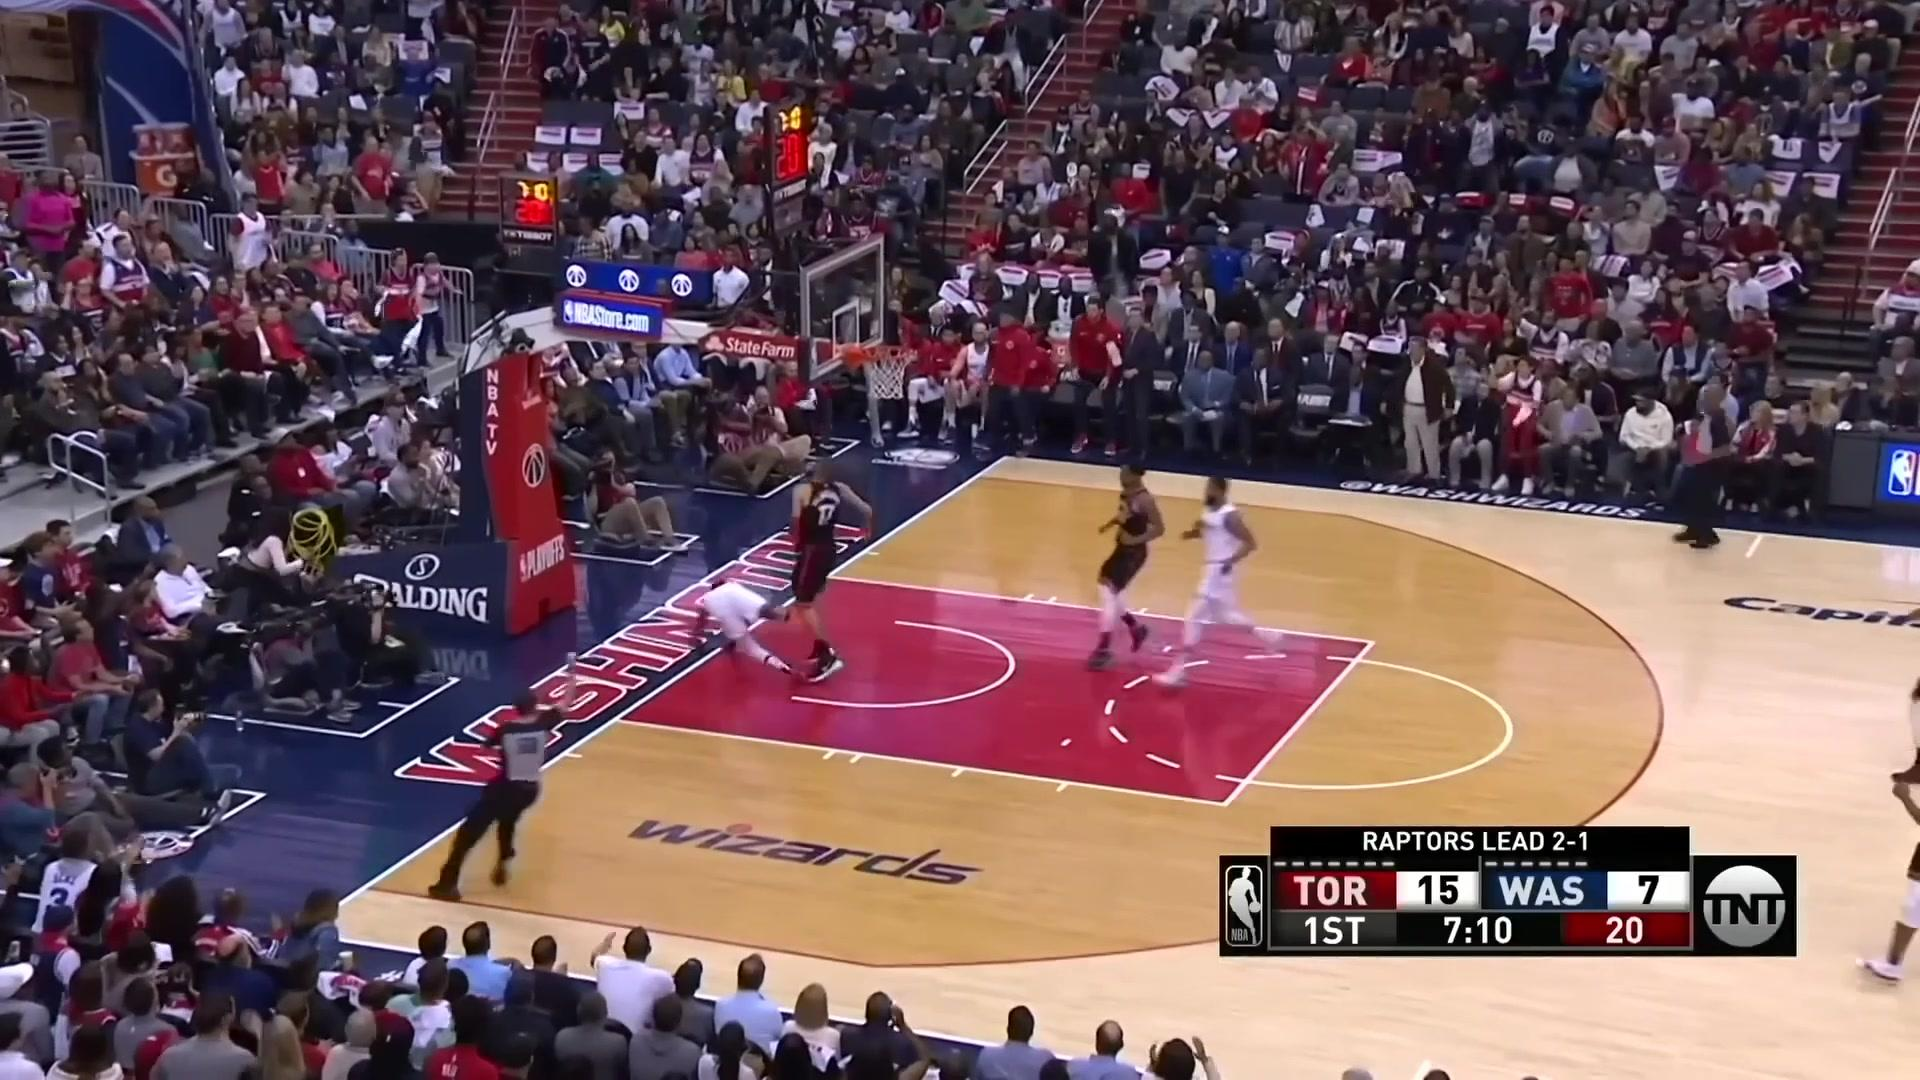foul: (695, 475, 866, 673)
